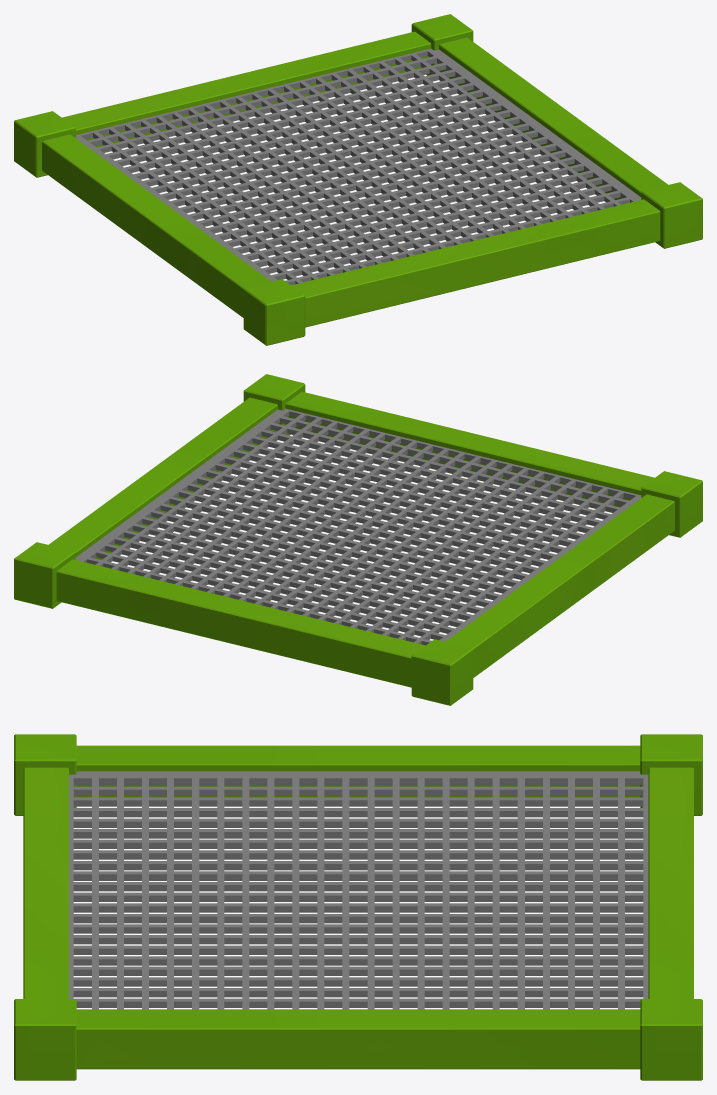
The model's file is SquareBridgeGreen.fbx.
The picture shows the model from 3 angles, top to bottom: view 1: azimuth 30°, elevation 25°; view 2: azimuth 150°, elevation 25°; view 3: azimuth 270°, elevation 25°; orthographic projection. The views are drawn at different scales.
Visible parts, largest first — view 1: Grate.001, Cube.001; view 2: Grate.001, Cube.001; view 3: Grate.001, Cube.001.
Boxes of the visible parts, box(x1,y1,x2,y2) form: Grate.001: box(75, 48, 641, 285); Cube.001: box(14, 14, 702, 345); Grate.001: box(75, 408, 641, 645); Cube.001: box(14, 374, 702, 705); Grate.001: box(69, 771, 648, 1009); Cube.001: box(14, 734, 702, 1080).
Bounding box in the file's own units: 11 × 1 × 11.
